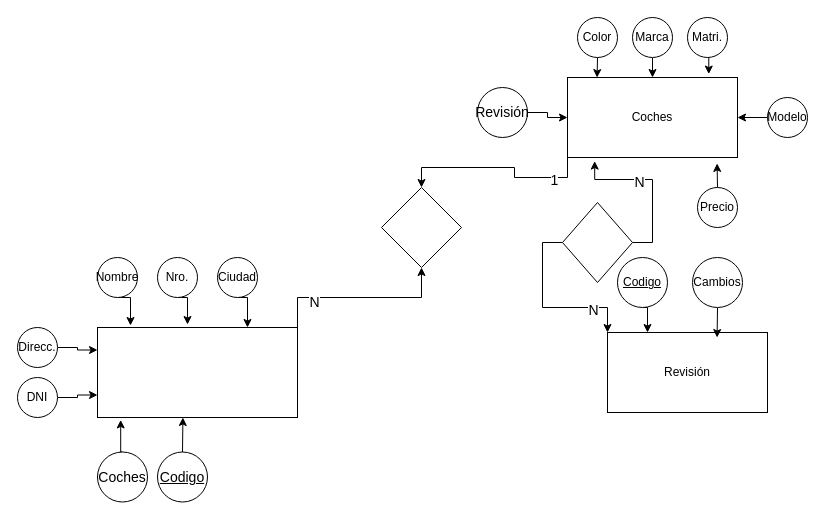
Some shapes in this 825 by 520 pixel diagram are drawn without their labels. The centre of each missing label's shape, as x and y in pixels:
Clientes: (x=197, y=372)
Compra: (x=421, y=227)
Es revisado por: (x=597, y=242)
